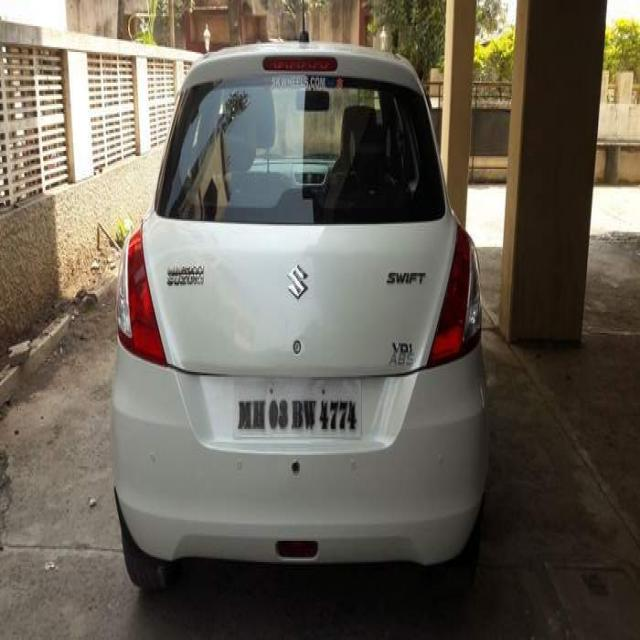Number-Plate: (230, 389, 364, 440)
